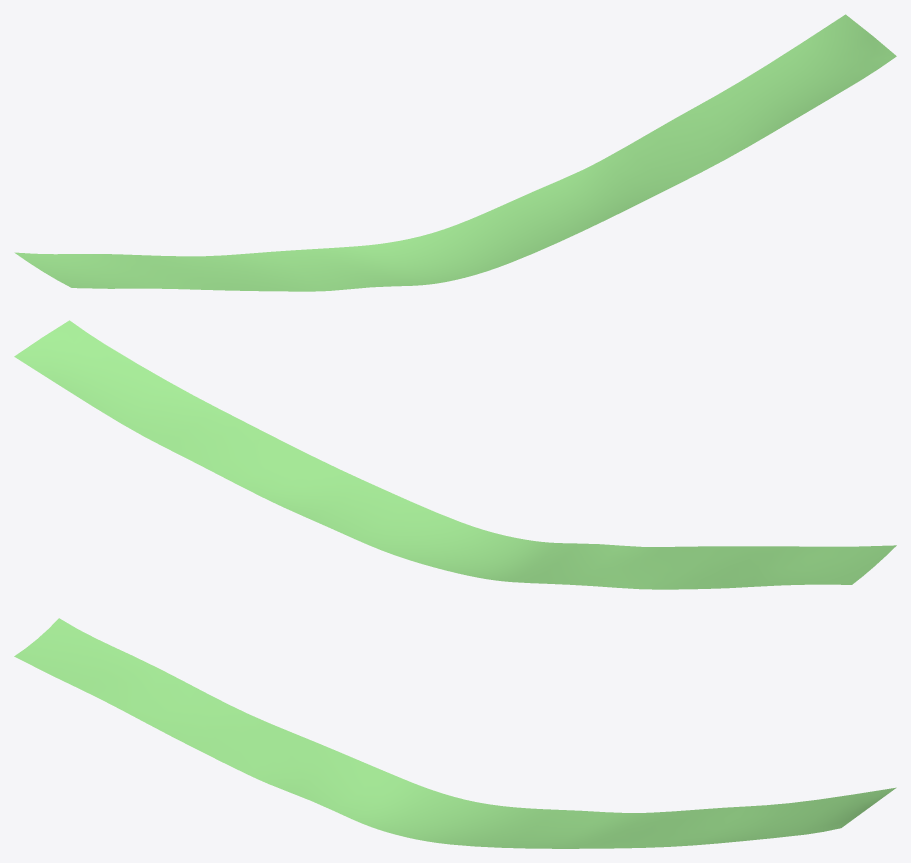
File: bridgeSus3.fbx
The picture shows the model from 3 angles, top to bottom: view 1: azimuth 30°, elevation 25°; view 2: azimuth 150°, elevation 25°; view 3: azimuth 330°, elevation 25°; orthographic projection.
Visible parts, largest first — view 1: n.0161; view 2: n.0161; view 3: n.0161.
Part boxes in pixels (bbox=[...]): n.0161: bbox=[14, 14, 896, 291]; n.0161: bbox=[14, 320, 896, 589]; n.0161: bbox=[14, 618, 896, 848].
Size of the model in its own units: 39.93 by 4.85 by 5.37.
